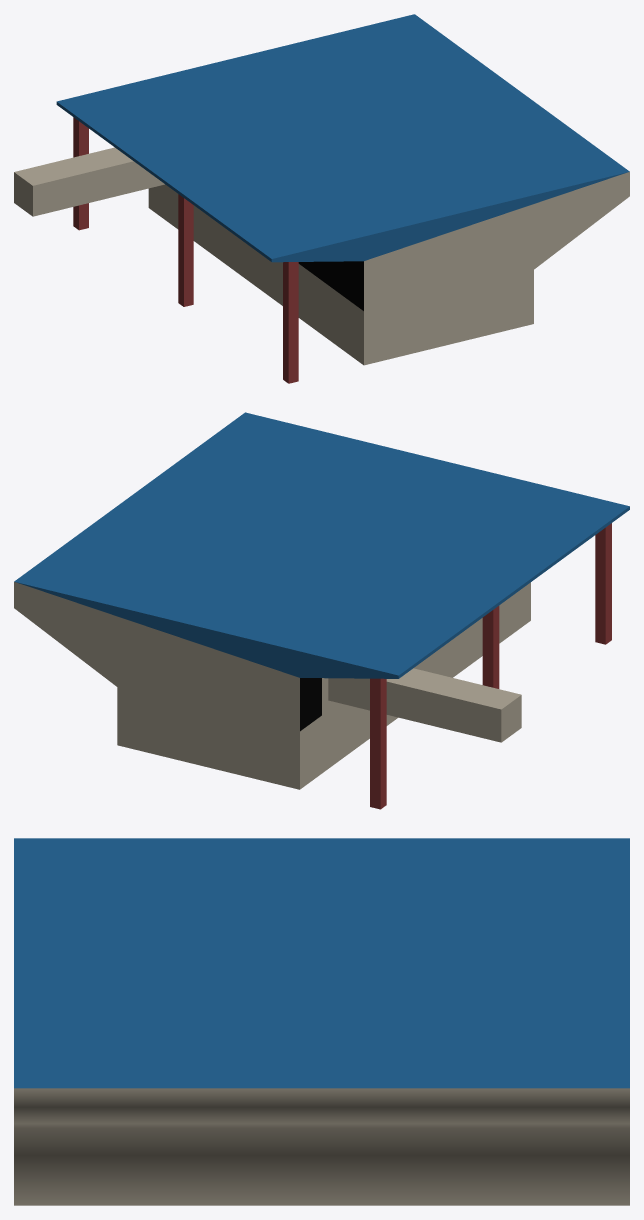
File: Terminal.fbx
3 views of the same model, one above another, from view 1: azimuth 30°, elevation 25°; view 2: azimuth 150°, elevation 25°; view 3: azimuth 270°, elevation 25° (orthographic). The views are drawn at different scales.
Visible parts, largest first — view 1: Terminal; view 2: Terminal; view 3: Terminal.
Part boxes in pixels (bbox=[...]): Terminal: bbox=[14, 14, 629, 383]; Terminal: bbox=[14, 412, 629, 809]; Terminal: bbox=[14, 838, 629, 1205].
Bounding box in the file's own units: 2923 × 842 × 2551.
1 material, 1 textured.
